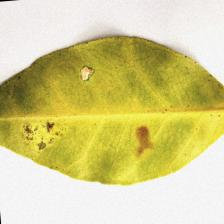canker: (15, 64, 156, 164)
